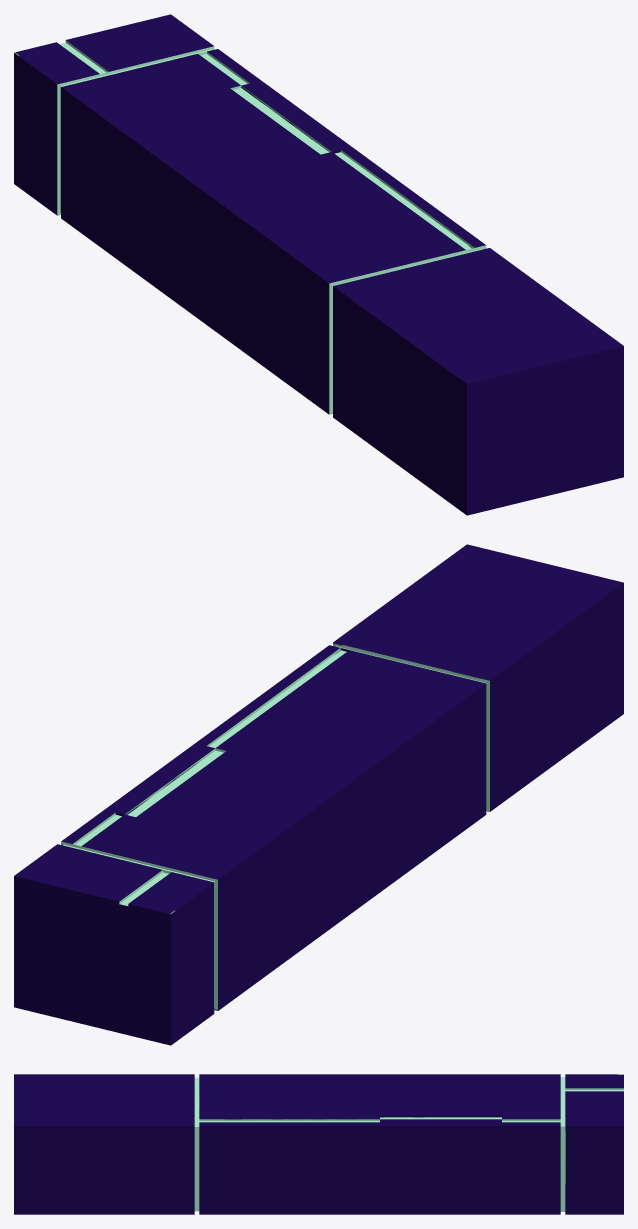
File: Pieza01.fbx
3 views of the same model, one above another, from view 1: azimuth 30°, elevation 25°; view 2: azimuth 150°, elevation 25°; view 3: azimuth 270°, elevation 25° (orthographic). The views are drawn at different scales.
Parts seen in each view (by area): view 1: Box064; view 2: Box064; view 3: Box064.
Boxes of the visible parts, box(x1,y1,x2,y2) form: Box064: box(14, 14, 623, 515); Box064: box(14, 544, 623, 1045); Box064: box(14, 1074, 623, 1214).
Size of the model in its own units: 254 by 205 by 1270.
1 material, 1 textured.
